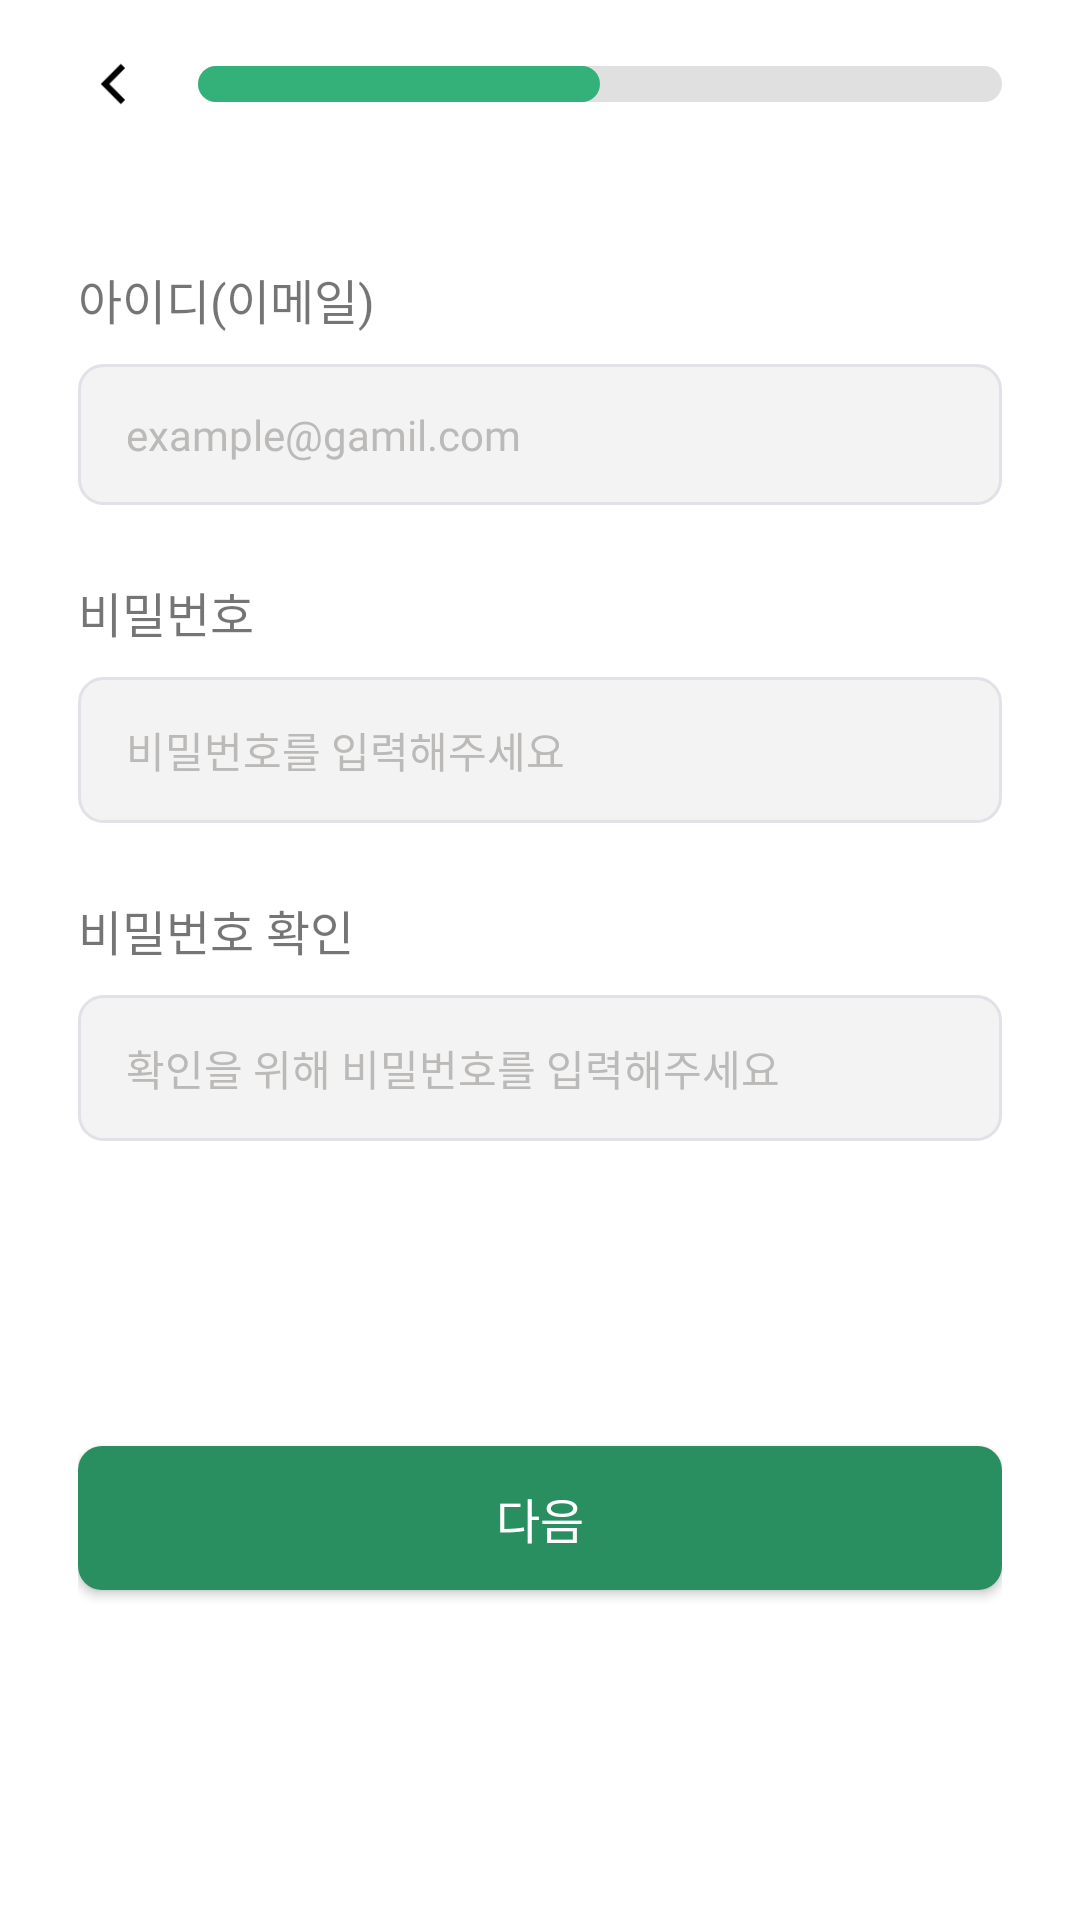

Locate icon controls on the screen. Image size 1080×1920, boxes as (x1, y1, x2, y2).
left arrow: (101, 63, 125, 105)
